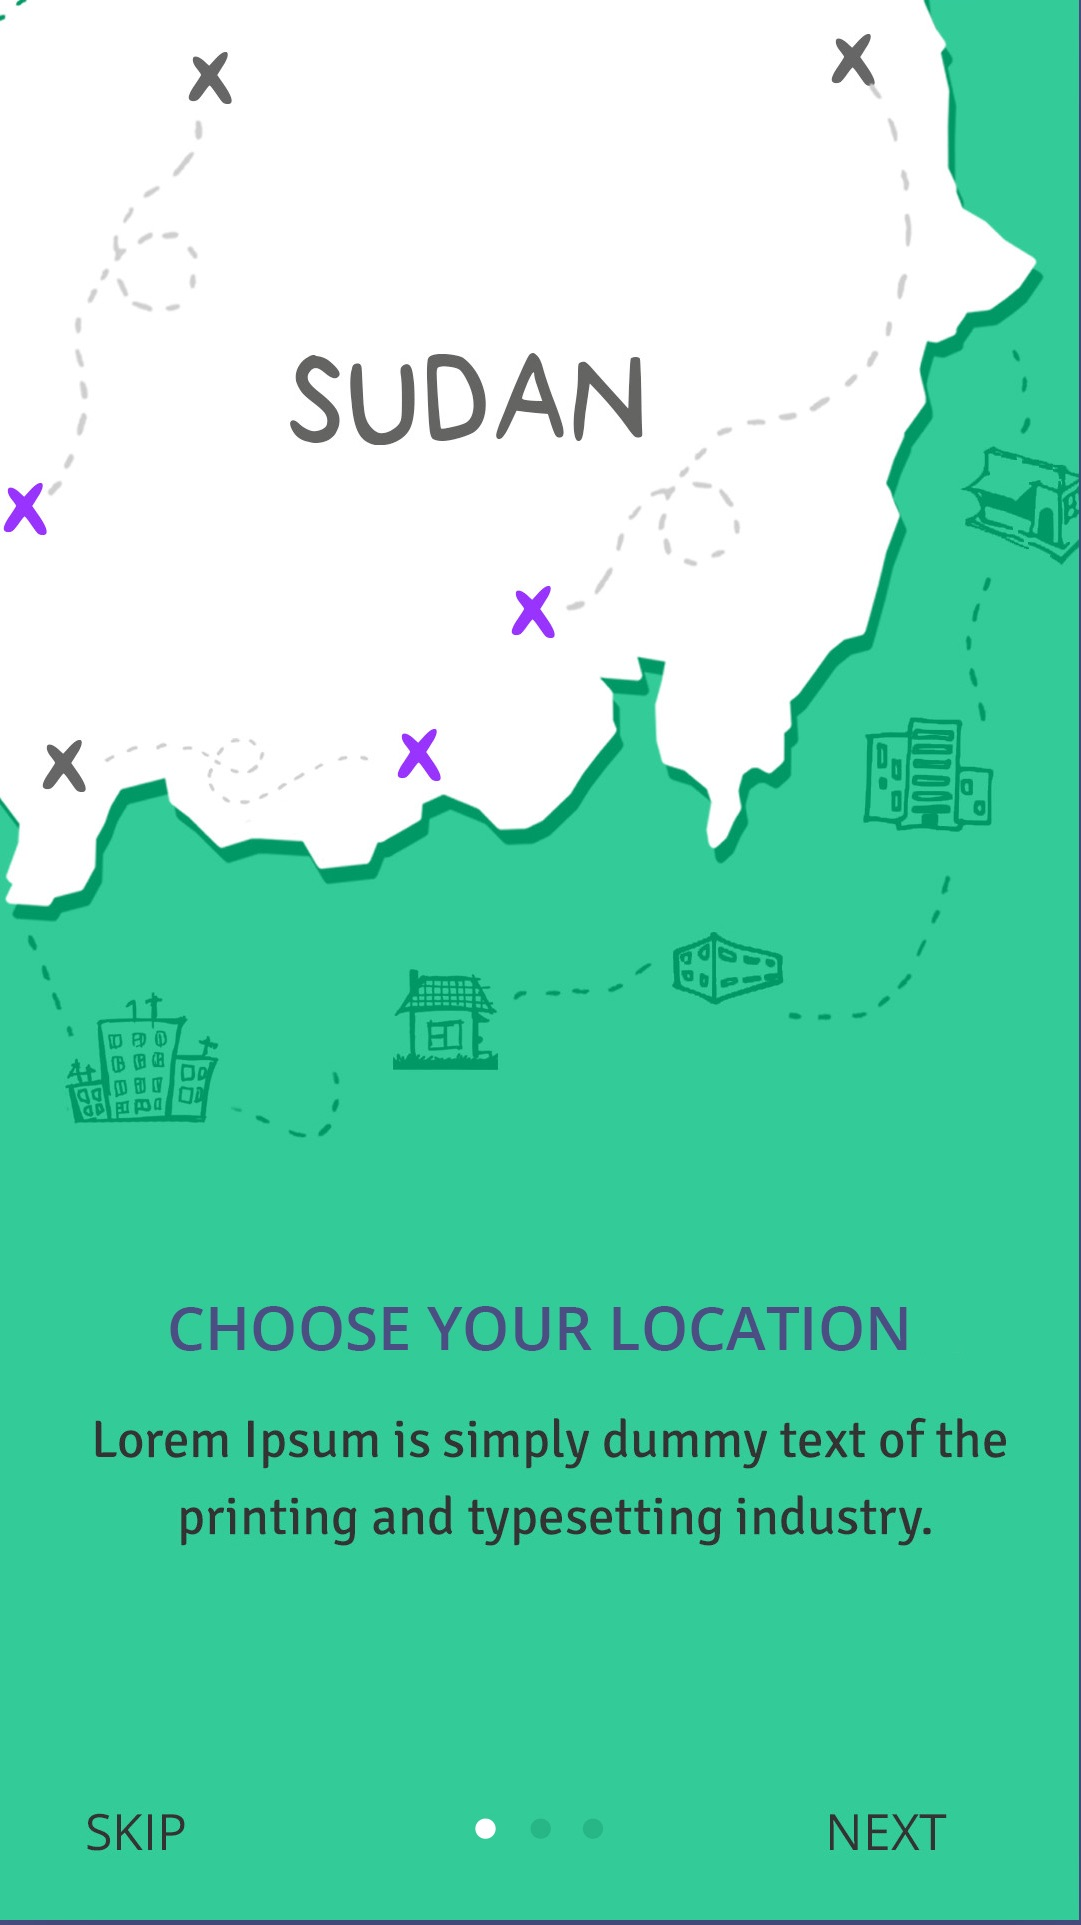Image: (1, 1, 1081, 1141)
PageIndicator: (474, 1817, 605, 1840)
Text: (96, 1417, 1007, 1546), (170, 1306, 907, 1353), (829, 1813, 948, 1851), (87, 1813, 186, 1852)
